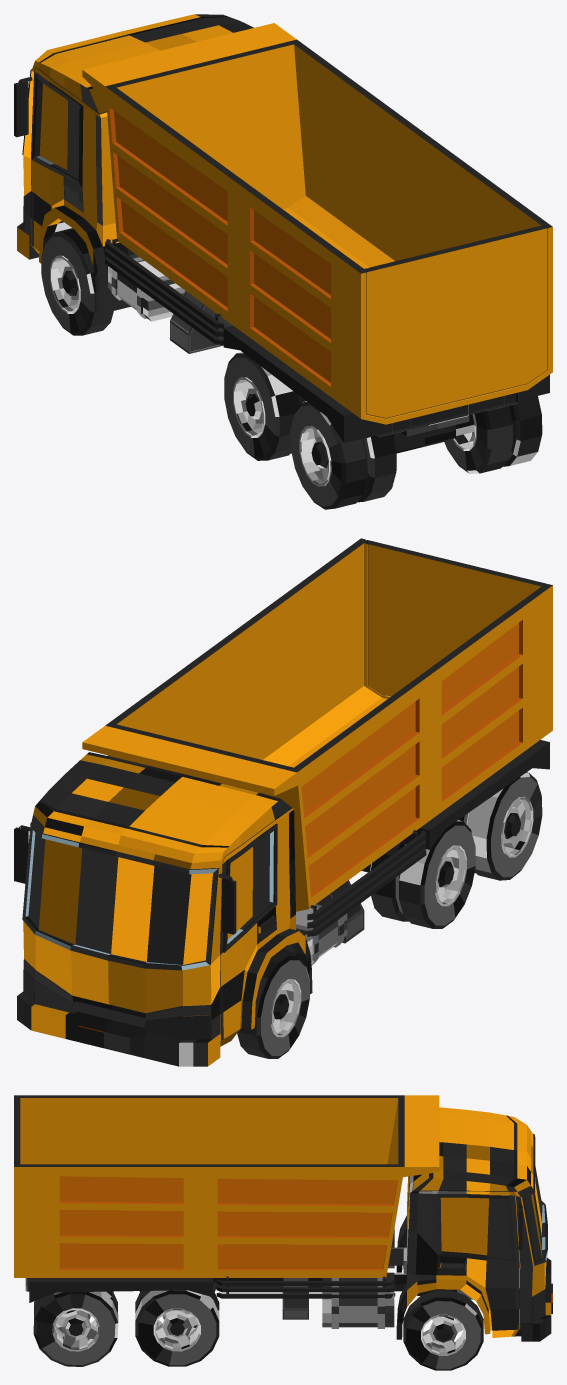
File: garbage-truck.glb
The picture shows the model from 3 angles, top to bottom: view 1: azimuth 30°, elevation 25°; view 2: azimuth 150°, elevation 25°; view 3: azimuth 270°, elevation 25°; orthographic projection. The views are drawn at different scales.
Visible parts, largest first — view 1: DumpTruck; view 2: DumpTruck; view 3: DumpTruck.
Boxes of the visible parts, left/top/right/bottom form: DumpTruck: left=14, top=14, right=552, bottom=509; DumpTruck: left=14, top=538, right=552, bottom=1066; DumpTruck: left=14, top=1095, right=552, bottom=1370.
Size of the model in its own units: 284 by 320 by 783.
1 material, 1 textured.
